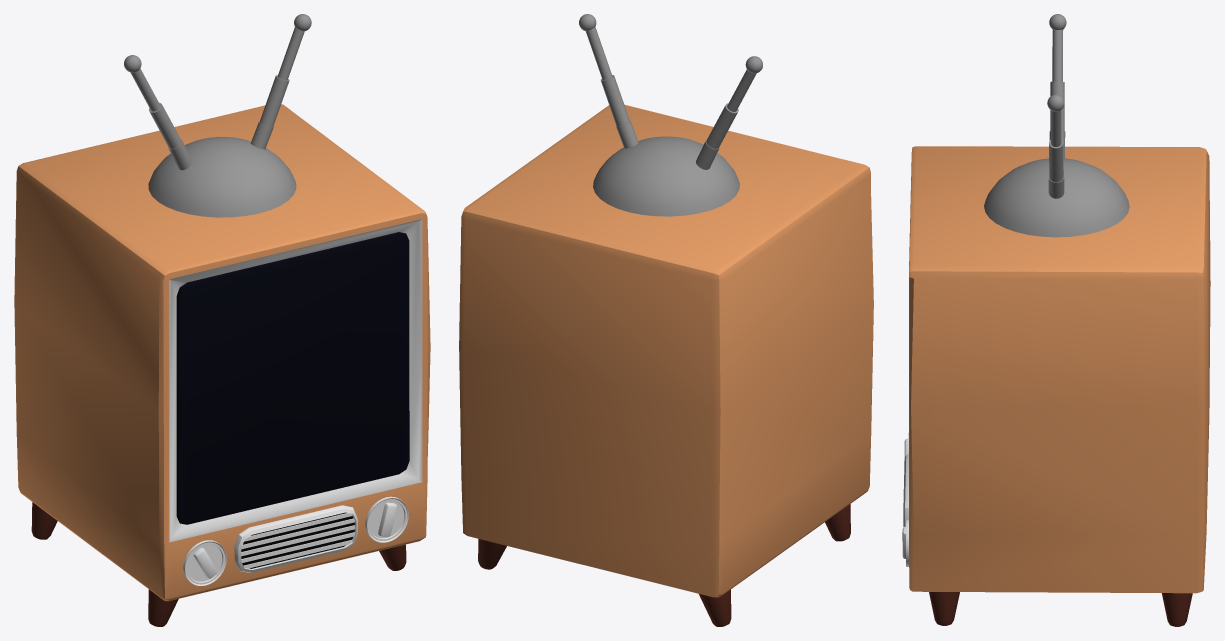
The model's file is tv_rotated.glb.
3 renders of one model, left to right at view 1: azimuth 30°, elevation 25°; view 2: azimuth 150°, elevation 25°; view 3: azimuth 270°, elevation 25°, orthographic.
Visible parts, largest first — view 1: Cube; view 2: Cube; view 3: Cube.
Boxes of the visible parts, <box> form: Cube: <box>14,14,430,626</box>; Cube: <box>459,14,873,626</box>; Cube: <box>902,14,1210,626</box>.
Bounding box in the file's own units: 4.09 × 7.48 × 4.08.
